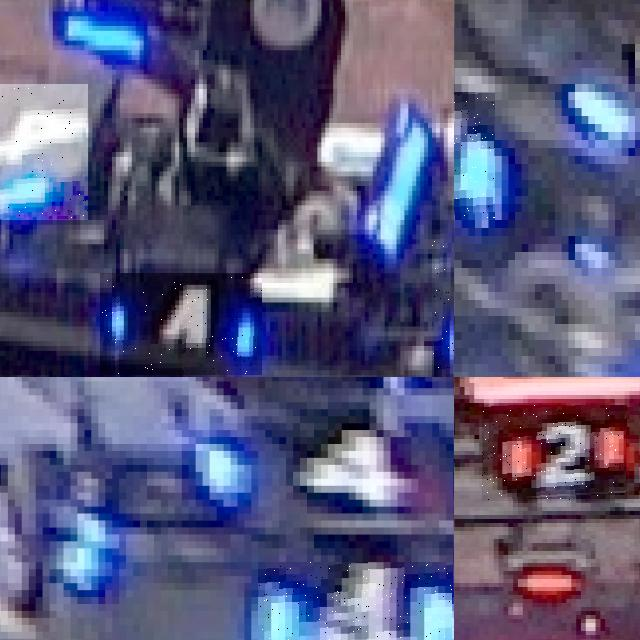B4: (100, 273, 262, 375), (0, 84, 88, 220), (454, 92, 494, 220), (431, 220, 454, 377)
R2: (482, 405, 627, 501)
R4: (258, 562, 453, 640)
